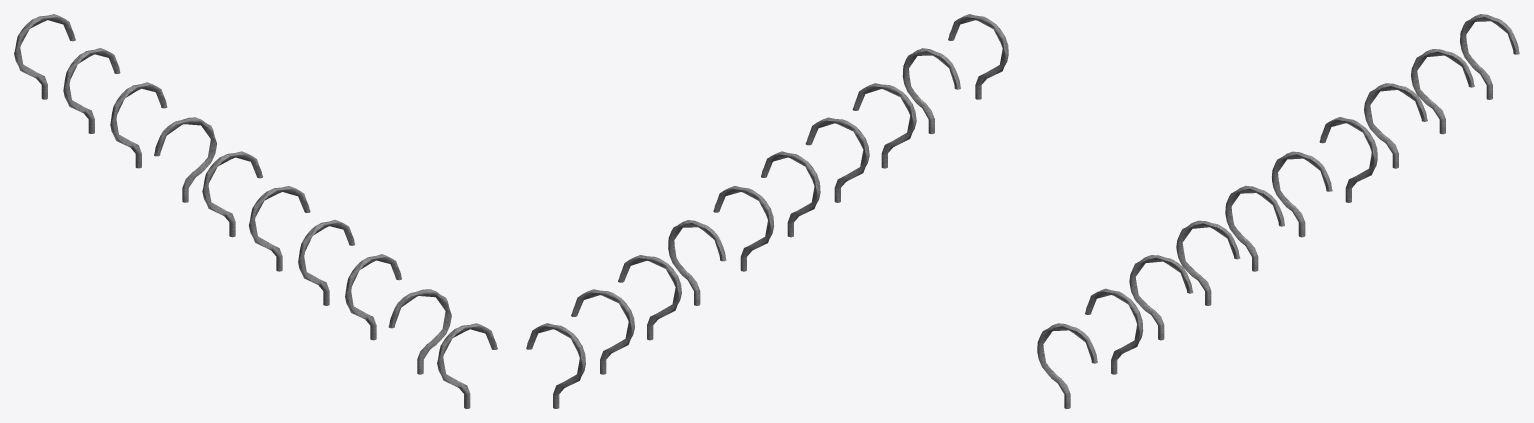
The picture shows the model from 3 angles, left to right: view 1: azimuth 30°, elevation 25°; view 2: azimuth 150°, elevation 25°; view 3: azimuth 330°, elevation 25°; orthographic projection.
Bounding box in the file's own units: 0.055 × 0.0716 × 0.6718.
1 material, 1 textured.
